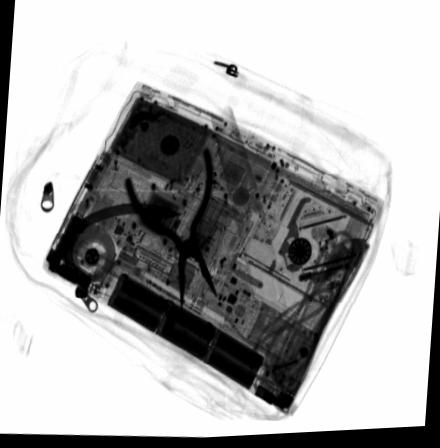Pliers: (124, 148, 219, 316)
